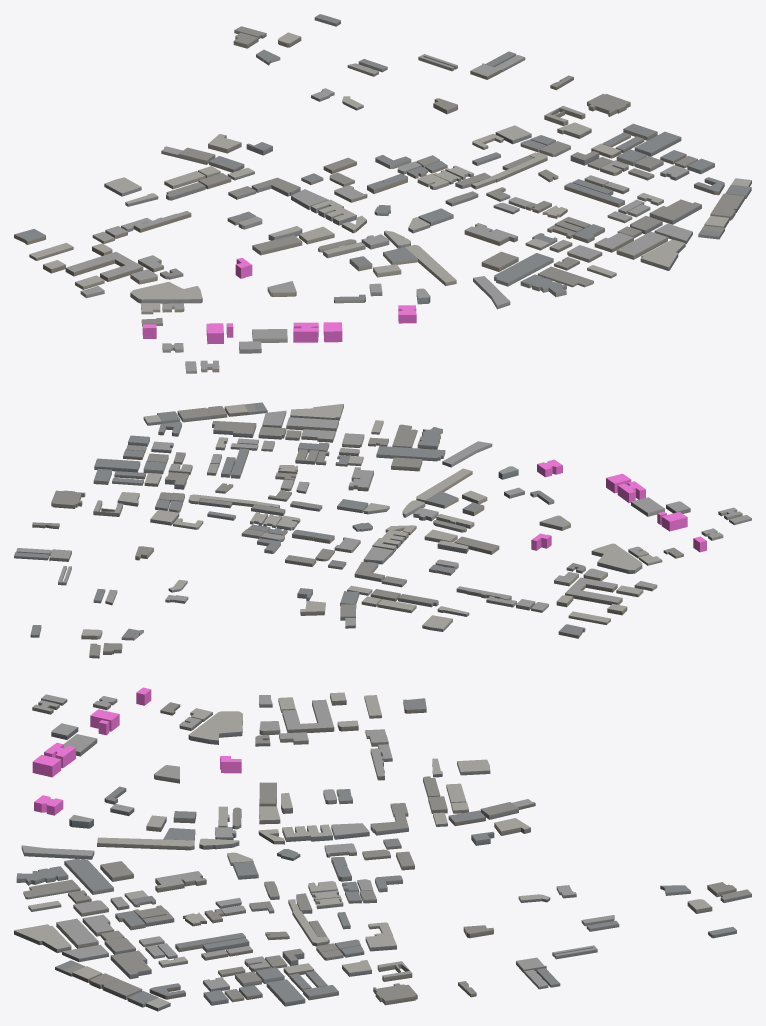
File: bld_15_13.fbx
The picture shows the model from 3 angles, top to bottom: view 1: azimuth 30°, elevation 25°; view 2: azimuth 150°, elevation 25°; view 3: azimuth 270°, elevation 25°; orthographic projection. The views are drawn at different scales.
Parts seen in each view (by area): view 1: bld_15_13_LOD0, bld_15_13_COL; view 2: bld_15_13_LOD0, bld_15_13_COL; view 3: bld_15_13_LOD0, bld_15_13_COL.
Boxes of the visible parts, x1,y1,x2,y2 form: bld_15_13_LOD0: [14, 14, 751, 373]; bld_15_13_COL: [142, 257, 416, 344]; bld_15_13_LOD0: [14, 402, 751, 658]; bld_15_13_COL: [531, 459, 706, 552]; bld_15_13_LOD0: [14, 692, 751, 1011]; bld_15_13_COL: [32, 687, 241, 815].
Size of what is drawn, in the model's own units: 2018 by 33.94 by 2001.
